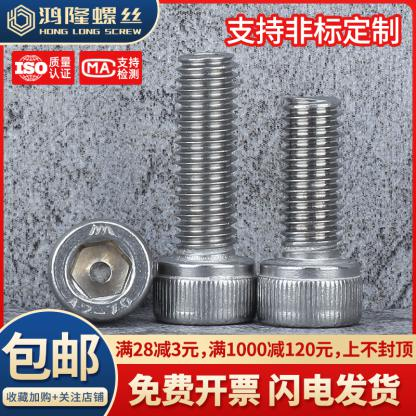FOD: (154, 50, 257, 325), (256, 94, 365, 331), (45, 217, 153, 325)
